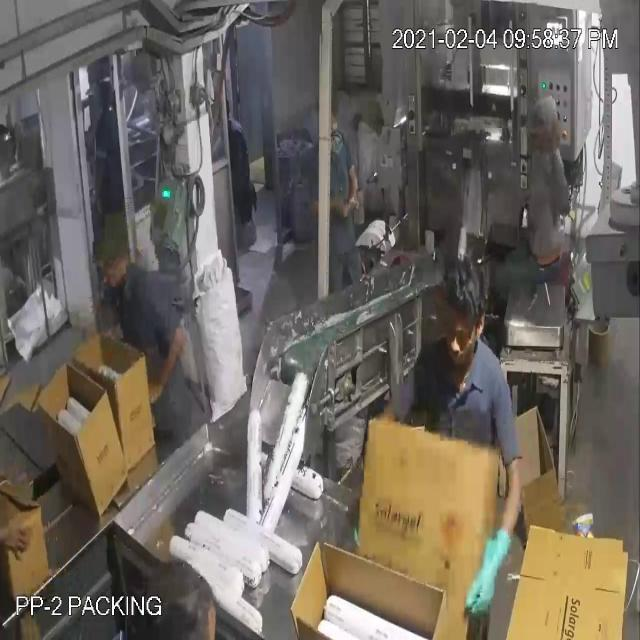No_Gloves: (20, 70, 490, 568)
